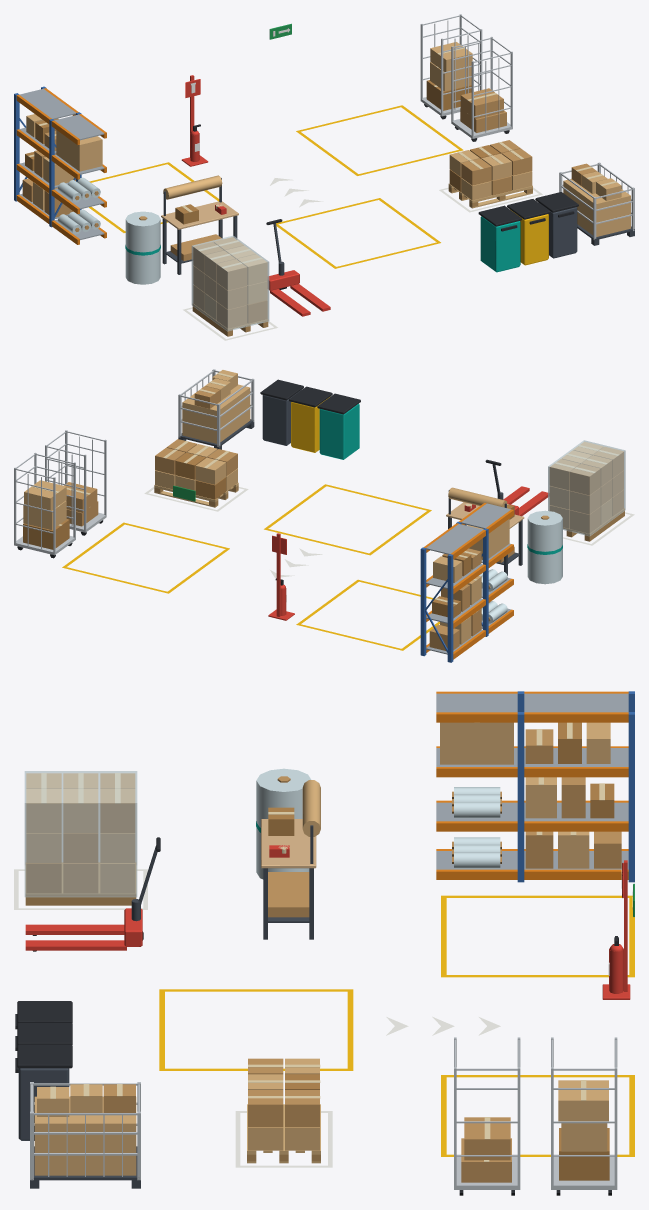
File: einrichtung_packhalle.glb
3 views of the same model, one above another, from view 1: azimuth 30°, elevation 25°; view 2: azimuth 150°, elevation 25°; view 3: azimuth 270°, elevation 25° (orthographic). The views are drawn at different scales.
Visible parts, largest first — view 1: einrichtung_packhalle; view 2: einrichtung_packhalle; view 3: einrichtung_packhalle.
Boxes of the visible parts, <box> form: einrichtung_packhalle: <box>14,14,634,340</box>; einrichtung_packhalle: <box>14,369,634,662</box>; einrichtung_packhalle: <box>14,691,634,1195</box>.
Size of the model in its own units: 8.7 by 2.05 by 6.73.
